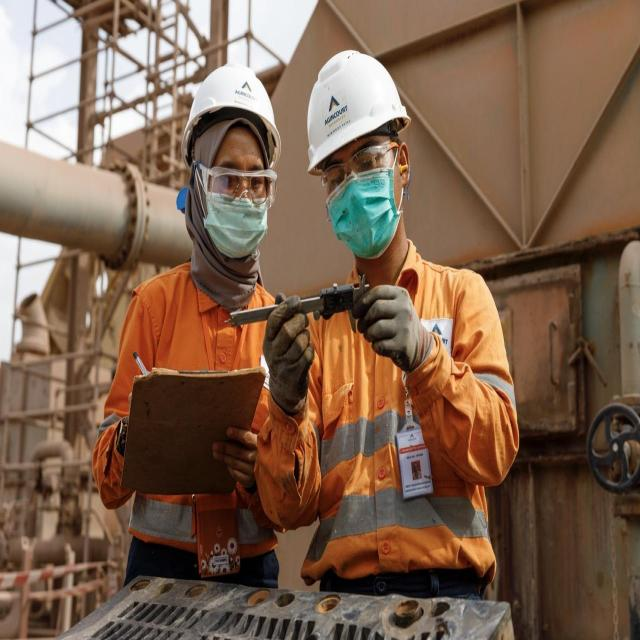Gloves: (354, 279, 439, 374), (256, 294, 319, 420)
Hardhat: (307, 50, 411, 173), (182, 63, 282, 173)
Person: (256, 48, 518, 601), (94, 62, 279, 586)
